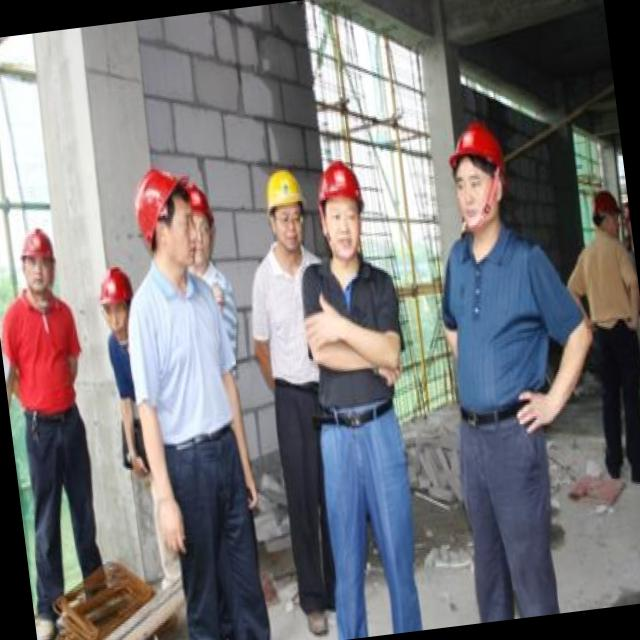helmet: (131, 160, 212, 280), (439, 116, 514, 242), (310, 156, 372, 262), (162, 172, 218, 268), (259, 163, 313, 256), (16, 218, 62, 300), (94, 261, 138, 343), (585, 182, 625, 255), (618, 192, 632, 240)
